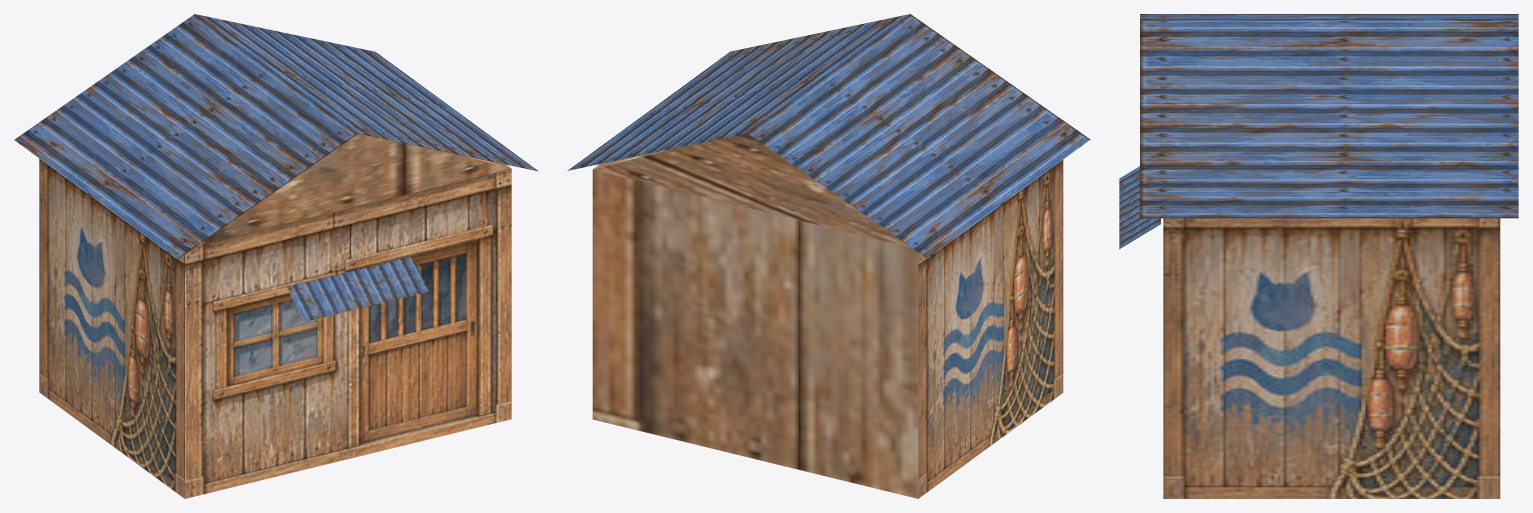
Rendered from nyanisyarud-harbor-hut-far-navy.glb.
The picture shows the model from 3 angles, left to right: view 1: azimuth 30°, elevation 25°; view 2: azimuth 150°, elevation 25°; view 3: azimuth 270°, elevation 25°; orthographic projection. The views are drawn at different scales.
Visible parts, largest first — view 1: 02_fishing_hut_Far_navy; view 2: 02_fishing_hut_Far_navy; view 3: 02_fishing_hut_Far_navy.
Boxes of the visible parts, x1,y1,x2,y2 form: 02_fishing_hut_Far_navy: (14,14,538,498); 02_fishing_hut_Far_navy: (567,14,1090,498); 02_fishing_hut_Far_navy: (1119,14,1518,498).
Size of the model in its own units: 2.08 by 1.83 by 1.72.
1 material, 1 textured.
